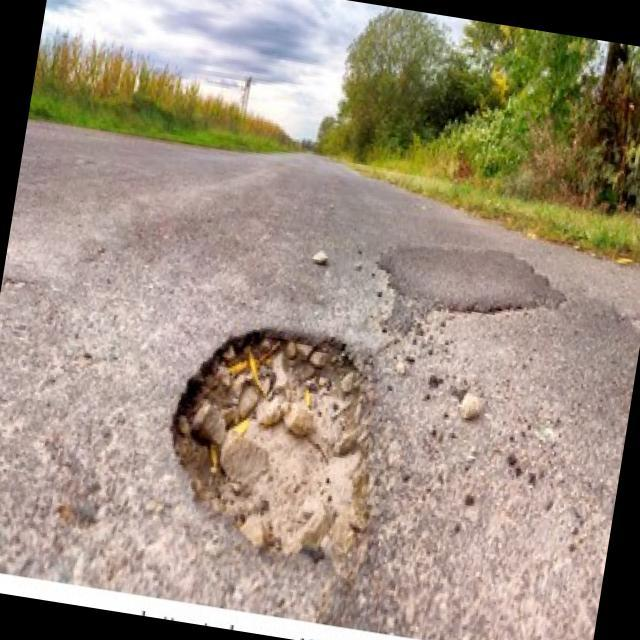Pothole: (149, 306, 407, 578)
